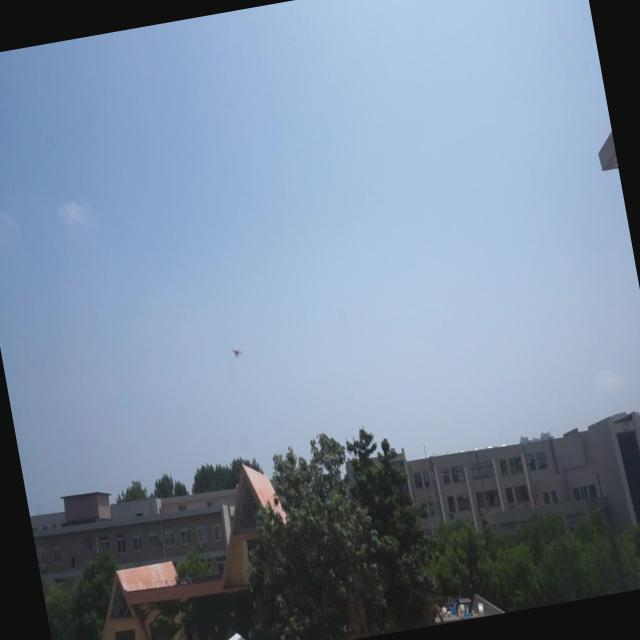drone: (228, 342, 246, 362)
